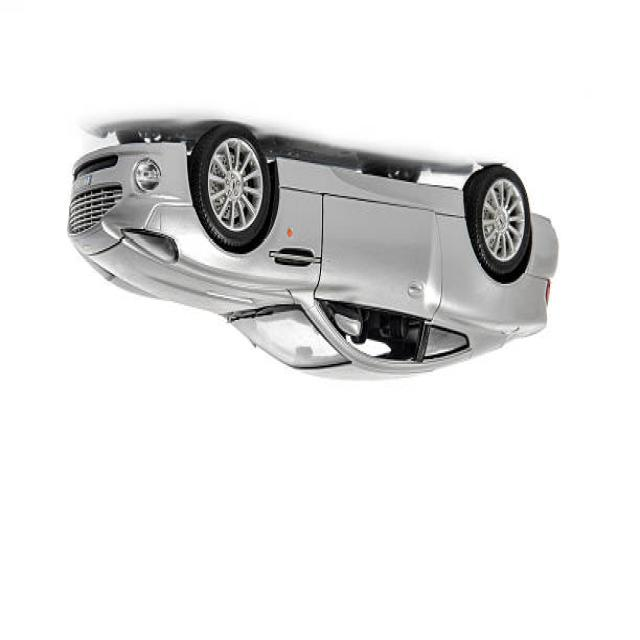Car: (66, 122, 558, 383)
